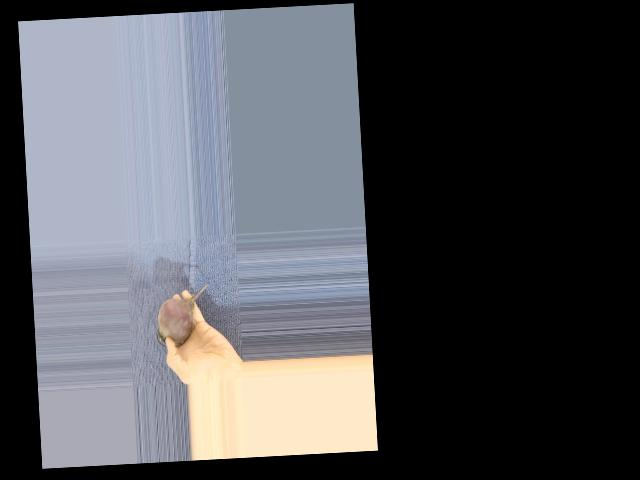beet: (153, 284, 212, 347)
